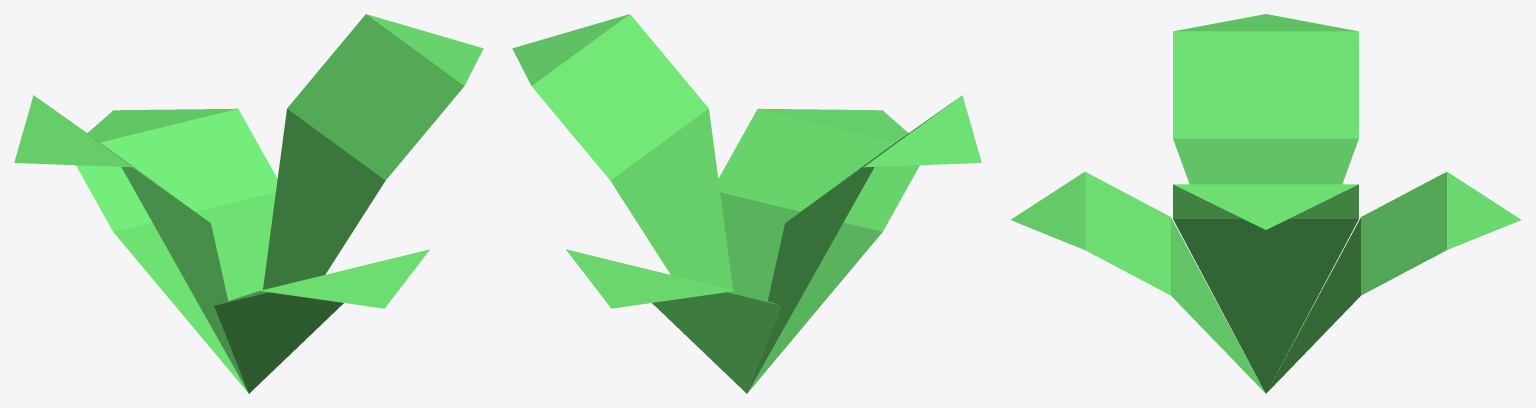
Rendered from n_plant_bush.glb.
3 renders of one model, left to right at view 1: azimuth 30°, elevation 25°; view 2: azimuth 150°, elevation 25°; view 3: azimuth 270°, elevation 25°, orthographic. The views are drawn at different scales.
Visible parts, largest first — view 1: plant_bush; view 2: plant_bush; view 3: plant_bush.
Part boxes in pixels (x1,y1,x2,y2): plant_bush: (14,14,483,393); plant_bush: (512,14,981,393); plant_bush: (1010,14,1521,393).
Size of the model in its own units: 1.3 by 0.8 by 1.3.
